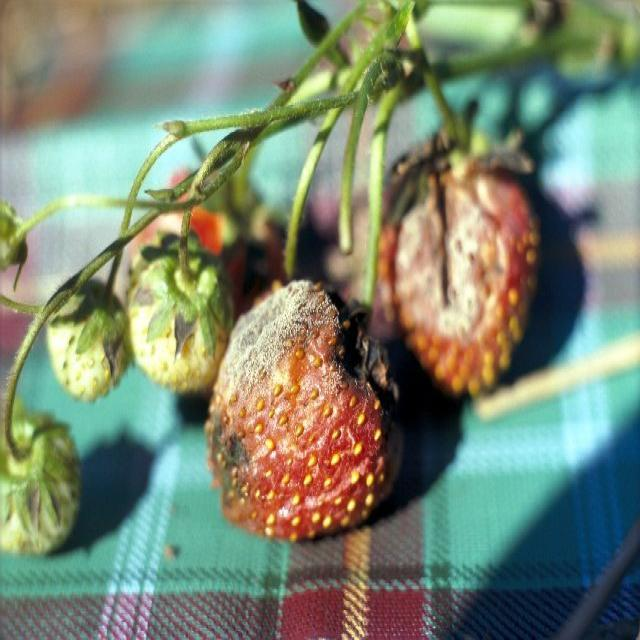Mancha negra Antracnosis: (186, 391, 278, 523)
Oído: (208, 282, 404, 532), (391, 152, 547, 410)
